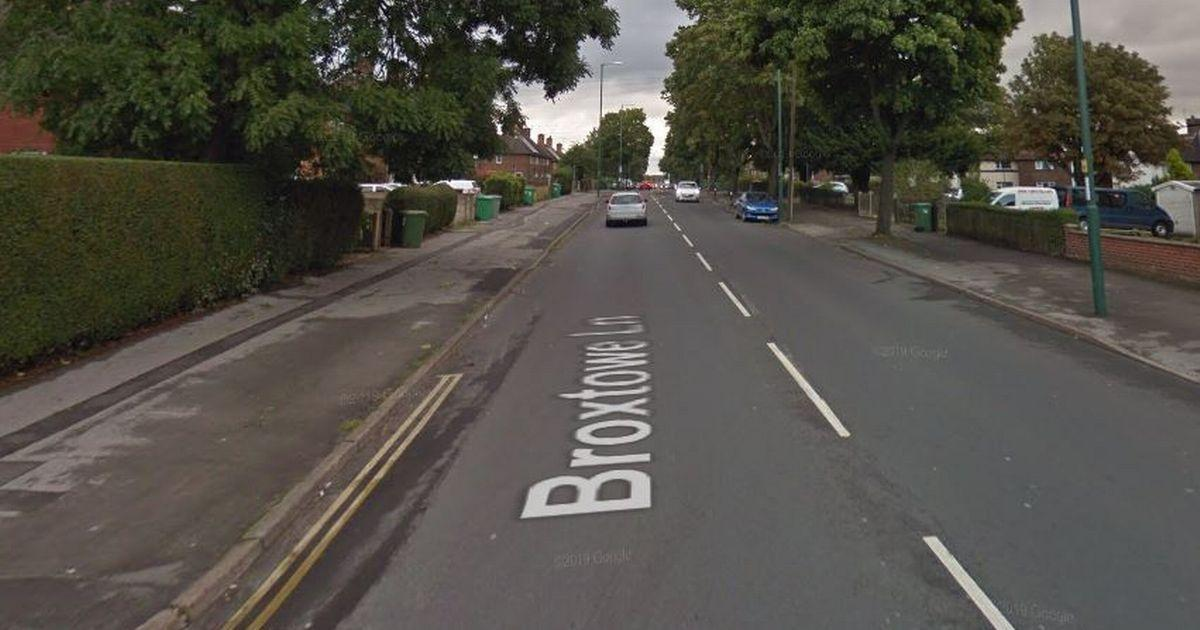car: (974, 178, 1064, 219), (598, 188, 658, 231), (728, 188, 784, 230), (667, 174, 706, 203)
language: (516, 290, 665, 522)
